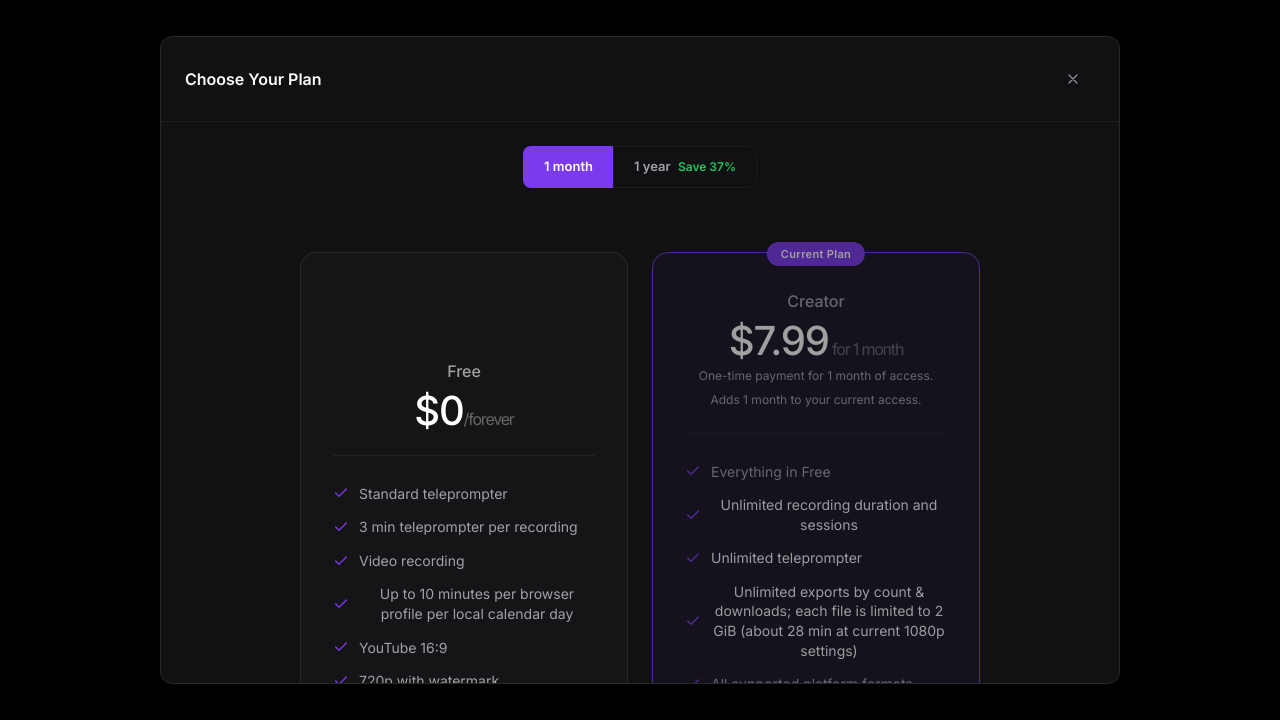
Test: PricingModal — renewing an active plan › extends by a year when the yearly term is selected
Click the button "1 year Save 37%".
click(685, 167)  # box [613,146,757,188]
(page scrolled)
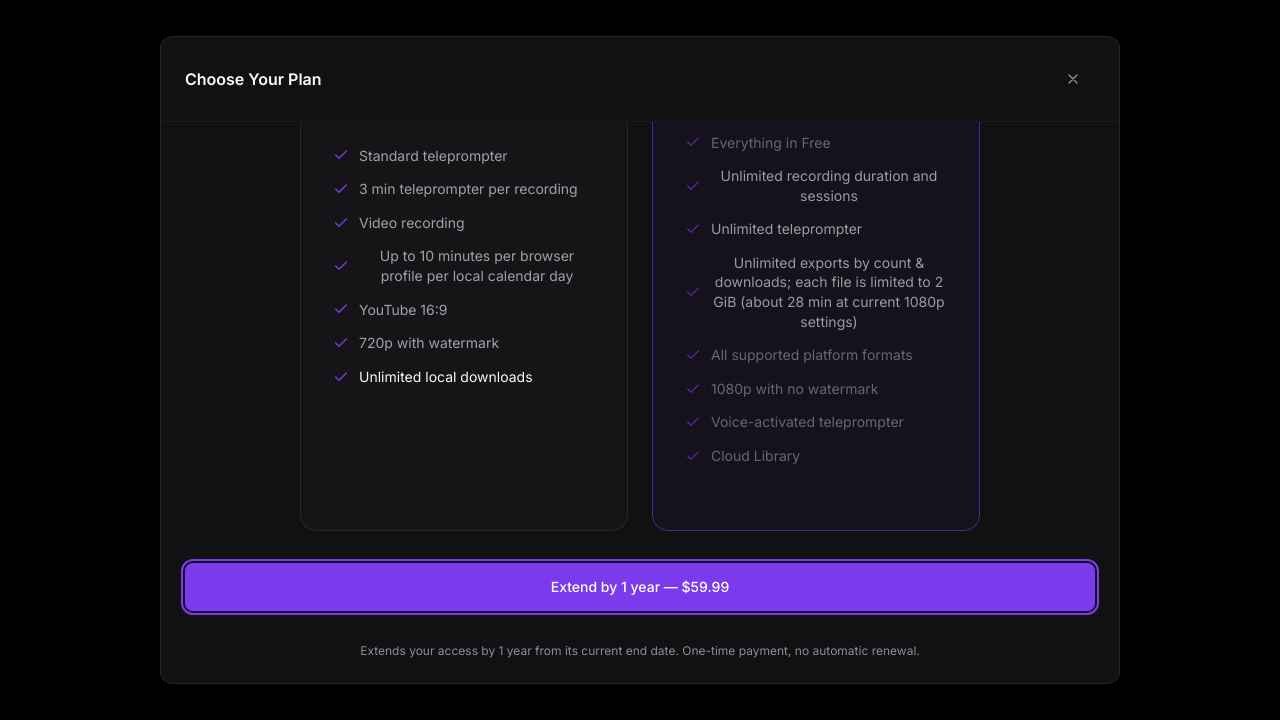
Expected: the button "Extend by 1 year — $59.99" is shown, [185,563,1095,611]
